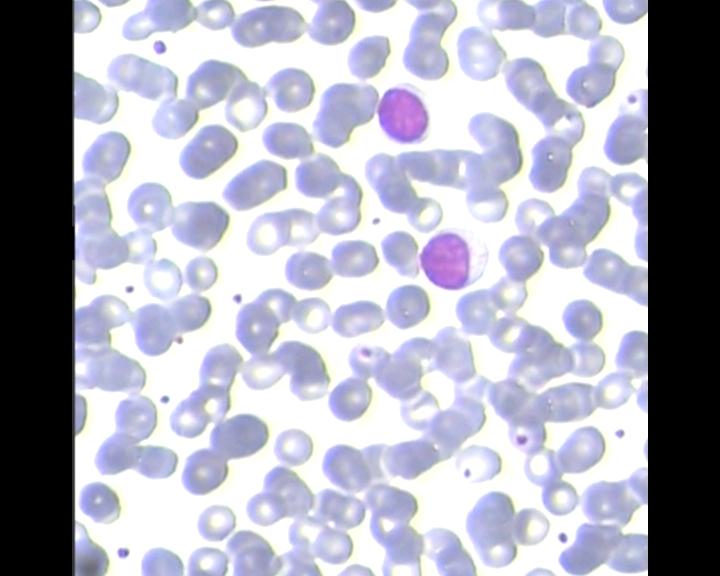lymp: (416, 225, 494, 290), (373, 75, 438, 149)
